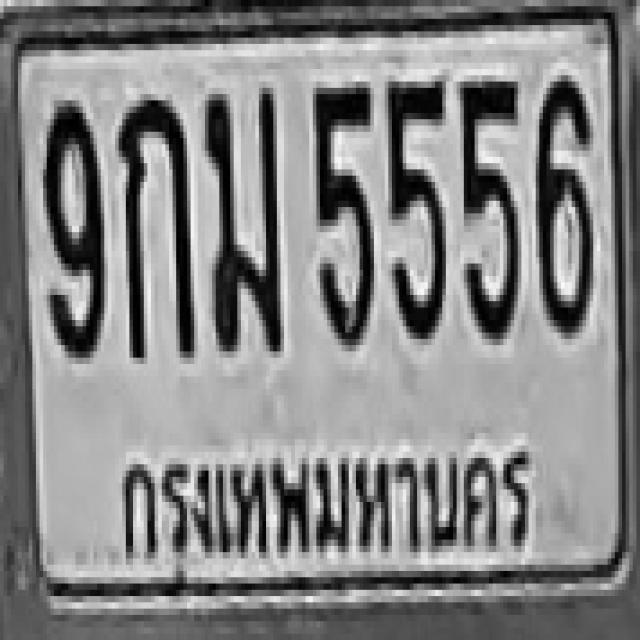10GorGai: (115, 91, 191, 354)
42MorMa: (201, 82, 277, 345)
5: (458, 75, 520, 339), (385, 75, 446, 339), (310, 78, 370, 342)
6: (534, 75, 591, 333)
9: (43, 94, 101, 351)
Bangkok: (109, 424, 536, 570)
